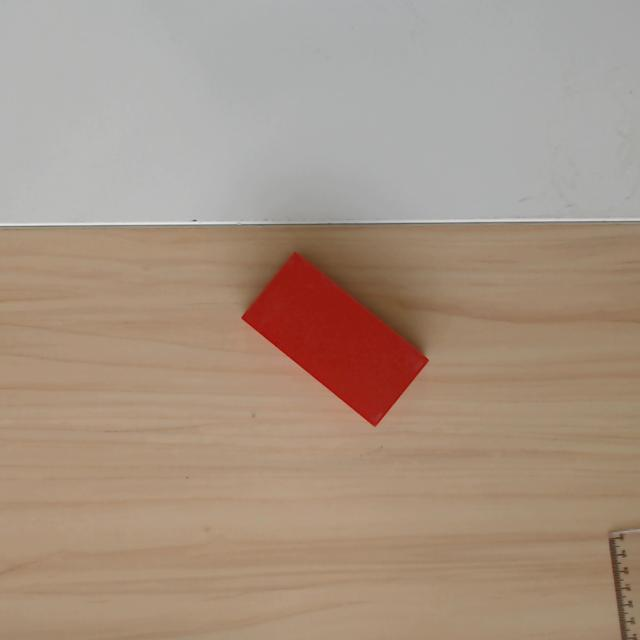Balok-Merah-1005025: (240, 250, 431, 428)
